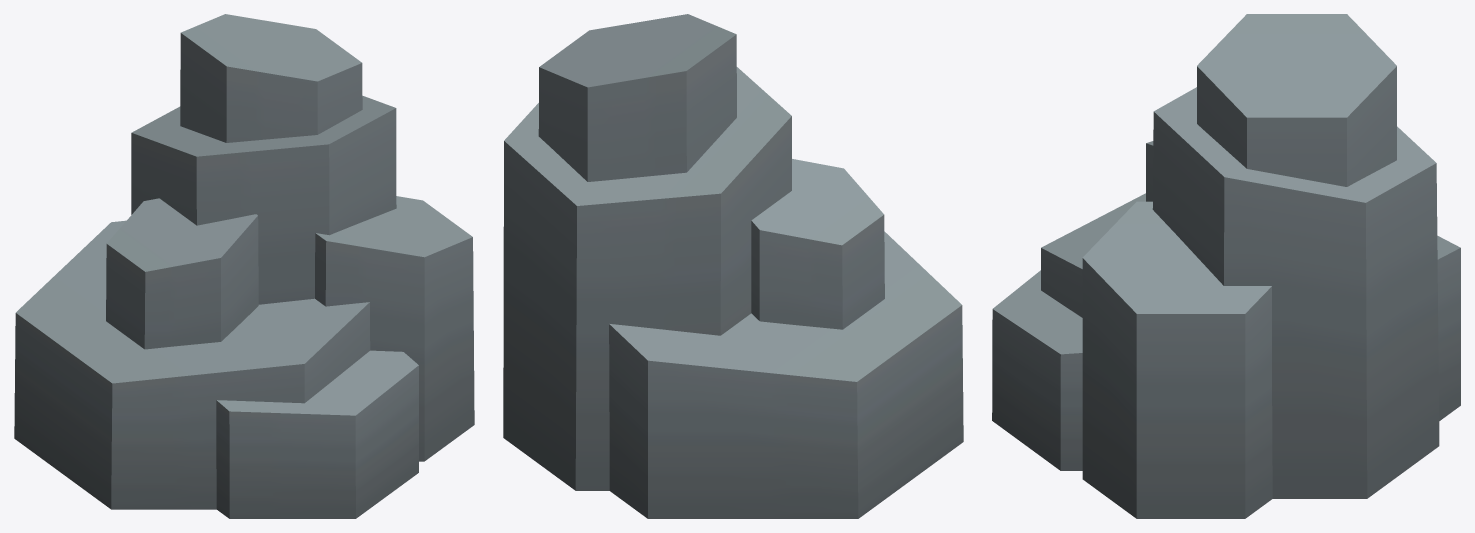
Rendered from mountain_b.glb.
3 renders of one model, left to right at view 1: azimuth 30°, elevation 25°; view 2: azimuth 150°, elevation 25°; view 3: azimuth 270°, elevation 25°, orthographic. The views are drawn at different scales.
Parts seen in each view (by area): view 1: mountain_B; view 2: mountain_B; view 3: mountain_B.
Boxes of the visible parts, x1,y1,x2,y2 form: mountain_B: (14, 14, 474, 518); mountain_B: (503, 14, 963, 518); mountain_B: (992, 14, 1460, 518).
Bounding box in the file's own units: 1.8 × 1.77 × 1.88.
1 material, 1 textured.
